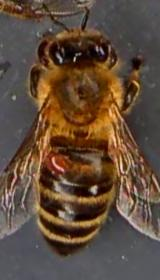varroa_mite: (40, 138, 74, 185)
